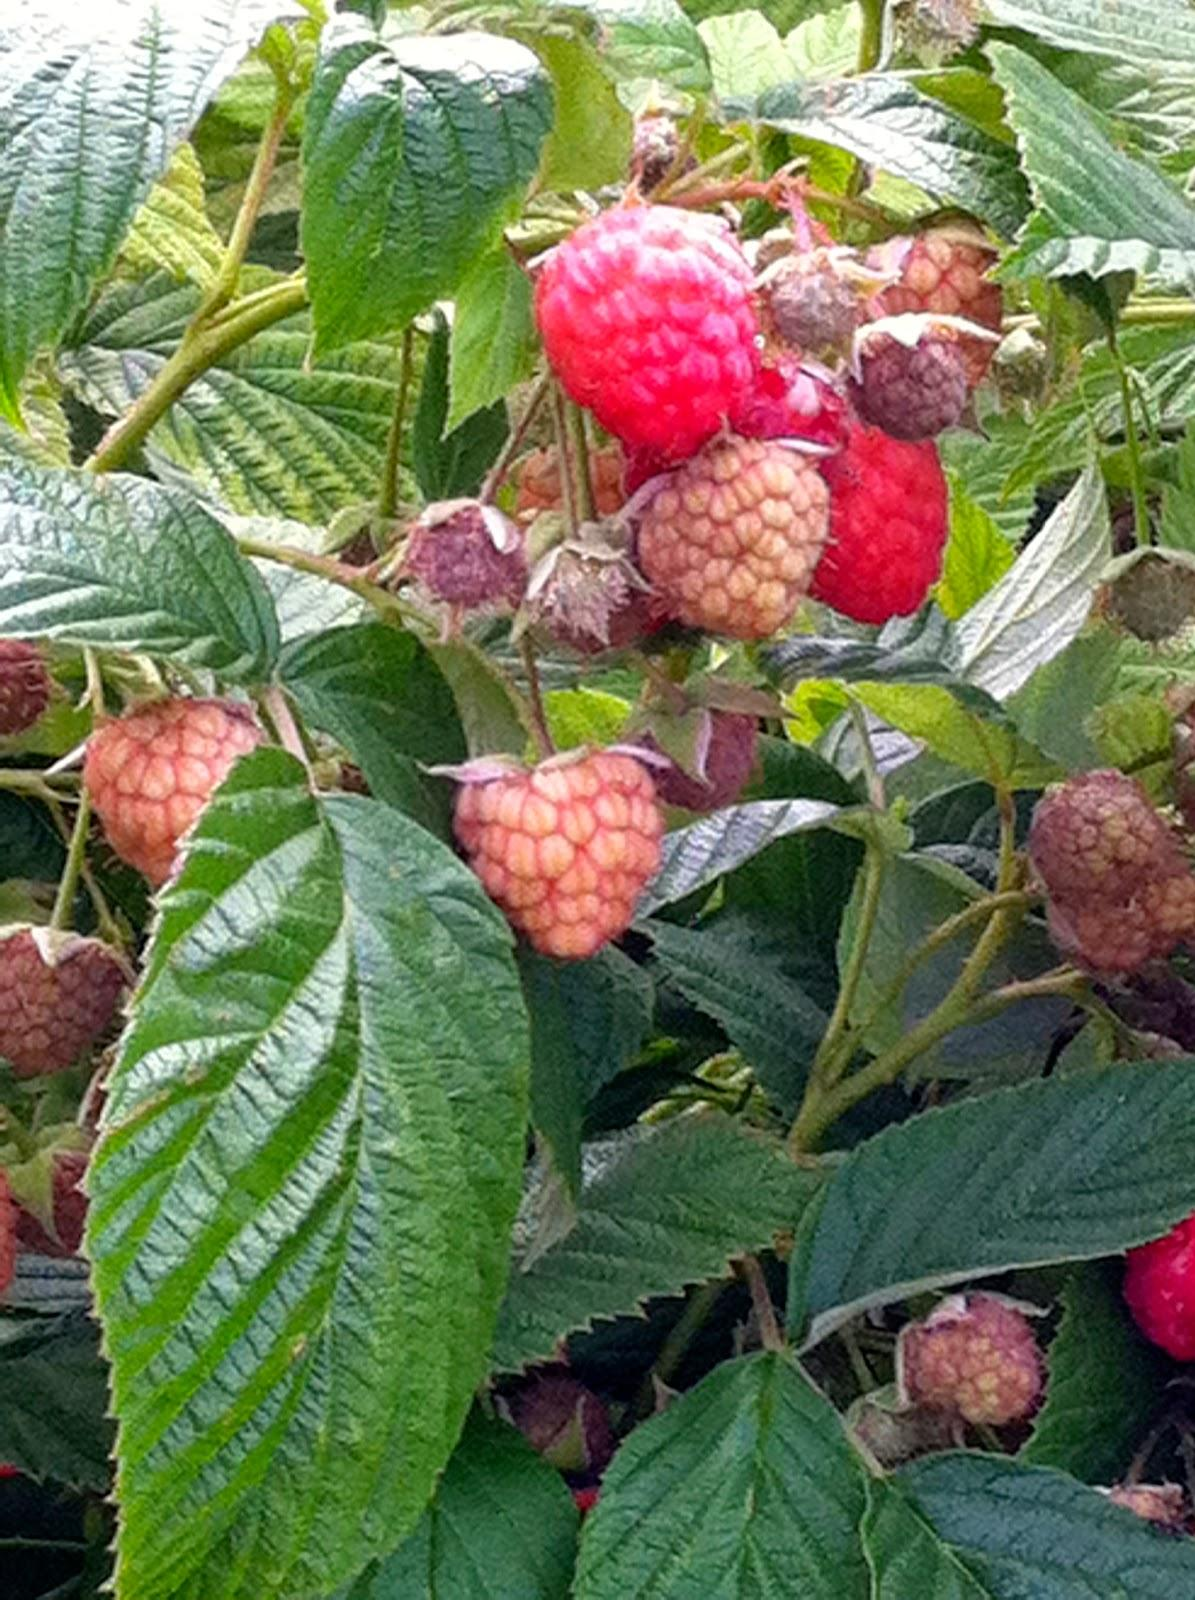Raspberry leaf: (104, 762, 526, 1600)
